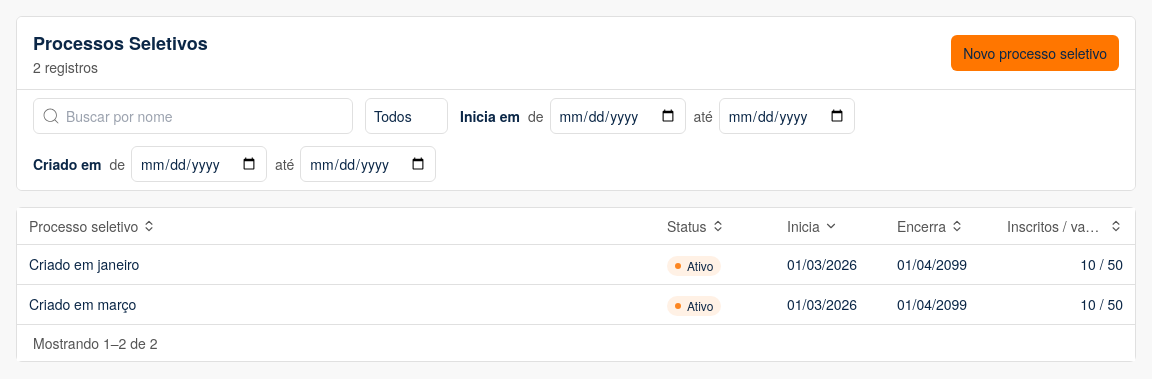
Test: Processos Seletivos na Dash V2 (tickets/021 card 04) › filtros por nome, Inicia em e Criado em (card 05) › Criado em filtra pelo intervalo
Expected: the text "Criado em janeiro" is shown, 29,254 -> 139,274
Type "2026-01-31" into the date field named "Criado em — até" at x=368, y=164, box 300,146 -> 436,182
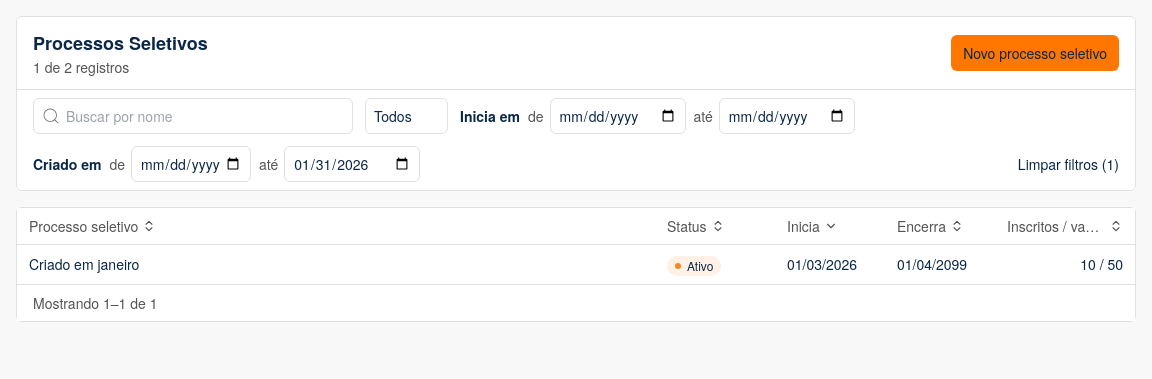
Expected: the text "Criado em janeiro" is shown, 29,254 -> 139,274
Expected: the button "Criado em março" is gone
